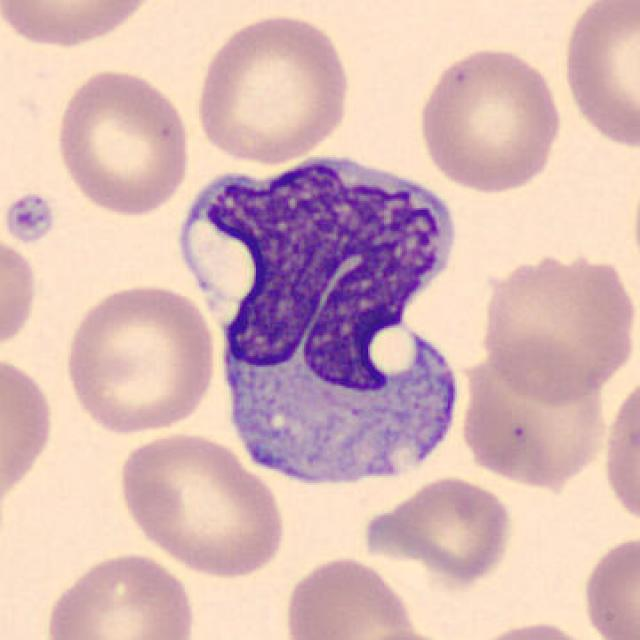Monocyte: (192, 134, 475, 504)
Platelets: (2, 190, 57, 245)
RBC: (475, 243, 638, 404), (190, 9, 356, 167), (114, 428, 288, 578), (58, 279, 218, 437), (453, 347, 615, 492), (414, 42, 566, 196), (50, 65, 194, 219), (359, 473, 517, 587), (41, 548, 199, 640), (556, 0, 638, 153), (281, 552, 423, 640), (0, 348, 57, 518), (0, 0, 165, 49), (597, 367, 640, 534), (579, 530, 638, 640), (0, 229, 41, 356), (462, 617, 603, 640), (343, 627, 462, 640)
